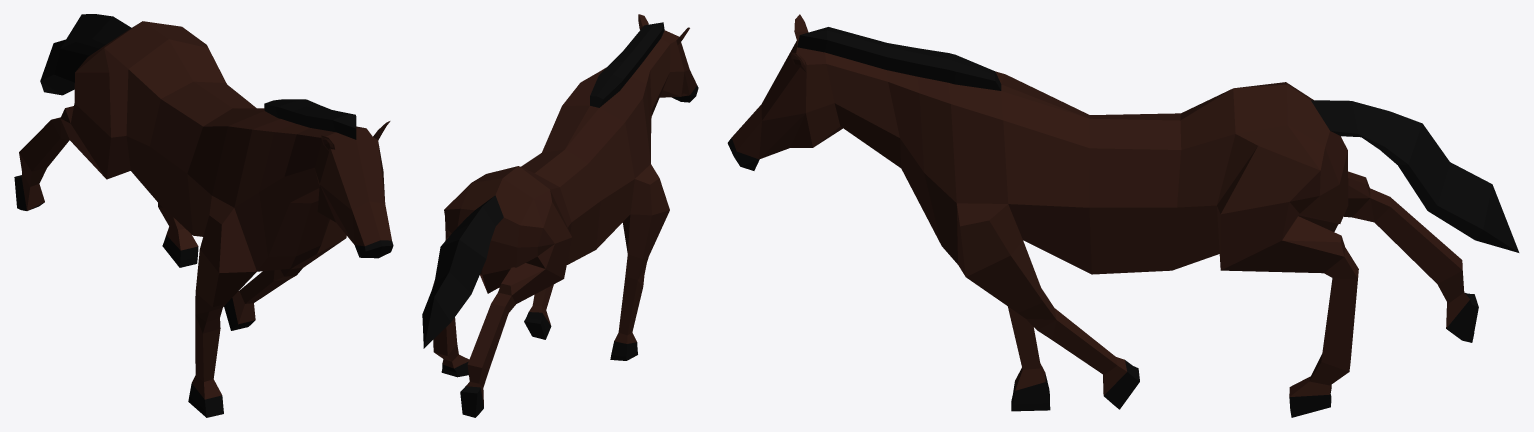
The model's file is Horse_000019.obj.
3 views of the same model, side by side, from view 1: azimuth 30°, elevation 25°; view 2: azimuth 150°, elevation 25°; view 3: azimuth 270°, elevation 25° (orthographic). The views are drawn at different scales.
Visible parts, largest first — view 1: Horse_Cylinder; view 2: Horse_Cylinder; view 3: Horse_Cylinder.
Part boxes in pixels (x1=…): Horse_Cylinder: x1=14, y1=14, x2=393, y2=417; Horse_Cylinder: x1=422, y1=14, x2=698, y2=417; Horse_Cylinder: x1=727, y1=14, x2=1519, y2=417.
Size of the model in its own units: 2.61 by 6.06 by 10.74.
